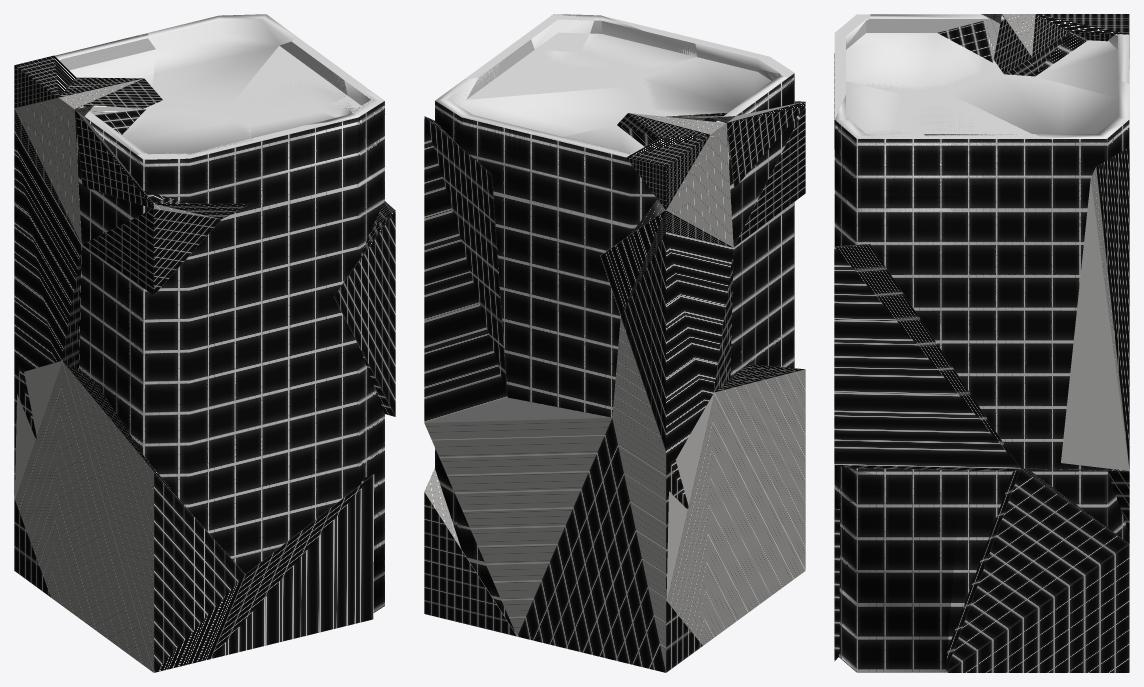
3 views of the same model, side by side, from view 1: azimuth 30°, elevation 25°; view 2: azimuth 150°, elevation 25°; view 3: azimuth 270°, elevation 25° (orthographic). The views are drawn at different scales.
Parts seen in each view (by area): view 1: mqo_mesh, mqo_mesh_cell.011, mqo_mesh_cell.021, mqo_mesh_cell.023, mqo_mesh_cell.019, mqo_mesh_cell.008, mqo_mesh_cell.004, mqo_mesh_cell.013, mqo_mesh_cell.022, mqo_mesh_cell.017, mqo_mesh_cell.007, mqo_mesh_cell.006 (+8 smaller); view 2: mqo_mesh, mqo_mesh_cell.002, mqo_mesh_cell.011, mqo_mesh_cell, mqo_mesh_cell.019, mqo_mesh_cell.005, mqo_mesh_cell.022, mqo_mesh_cell.004, mqo_mesh_cell.003, mqo_mesh_cell.012, mqo_mesh_cell.013, mqo_mesh_cell.006 (+6 smaller); view 3: mqo_mesh, mqo_mesh_cell.012, mqo_mesh_cell.017, mqo_mesh_cell.014, mqo_mesh_cell.001, mqo_mesh_cell, mqo_mesh_cell.004, mqo_mesh_cell.015, mqo_mesh_cell.013, mqo_mesh_cell.009, mqo_mesh_cell.022, mqo_mesh_cell.008 (+6 smaller).
Part boxes in pixels (<box>): mqo_mesh: <box>60,33,384,579</box>; mqo_mesh_cell.011: <box>14,361,245,672</box>; mqo_mesh_cell.021: <box>97,372,384,573</box>; mqo_mesh_cell.023: <box>211,474,374,658</box>; mqo_mesh_cell.019: <box>14,130,81,370</box>; mqo_mesh_cell.008: <box>251,112,375,210</box>; mqo_mesh_cell.004: <box>148,14,295,111</box>; mqo_mesh_cell.013: <box>85,107,251,203</box>; mqo_mesh_cell.022: <box>14,77,162,243</box>; mqo_mesh_cell.017: <box>334,201,395,416</box>; mqo_mesh_cell.007: <box>82,208,221,295</box>; mqo_mesh_cell.006: <box>74,105,250,219</box>; mqo_mesh: <box>435,14,794,633</box>; mqo_mesh_cell.002: <box>424,397,702,672</box>; mqo_mesh_cell.011: <box>666,364,805,645</box>; mqo_mesh_cell: <box>424,116,507,422</box>; mqo_mesh_cell.019: <box>612,232,733,451</box>; mqo_mesh_cell.005: <box>508,125,656,254</box>; mqo_mesh_cell.022: <box>600,113,733,315</box>; mqo_mesh_cell.004: <box>435,78,635,173</box>; mqo_mesh_cell.003: <box>492,169,620,400</box>; mqo_mesh_cell.012: <box>424,468,516,636</box>; mqo_mesh_cell.013: <box>644,57,794,116</box>; mqo_mesh_cell.006: <box>666,101,805,188</box>; mqo_mesh: <box>834,14,1129,659</box>; mqo_mesh_cell.012: <box>945,468,1129,672</box>; mqo_mesh_cell.017: <box>834,244,1020,471</box>; mqo_mesh_cell.014: <box>870,93,1095,287</box>; mqo_mesh_cell.001: <box>842,490,959,672</box>; mqo_mesh_cell: <box>1061,147,1129,470</box>; mqo_mesh_cell.004: <box>947,74,1129,157</box>; mqo_mesh_cell.015: <box>920,179,1090,465</box>; mqo_mesh_cell.013: <box>846,14,984,91</box>; mqo_mesh_cell.009: <box>837,119,927,244</box>; mqo_mesh_cell.022: <box>993,14,1129,146</box>; mqo_mesh_cell.008: <box>834,81,917,230</box>.
Bounding box in the file's own units: 5010 × 10010 × 5010.
